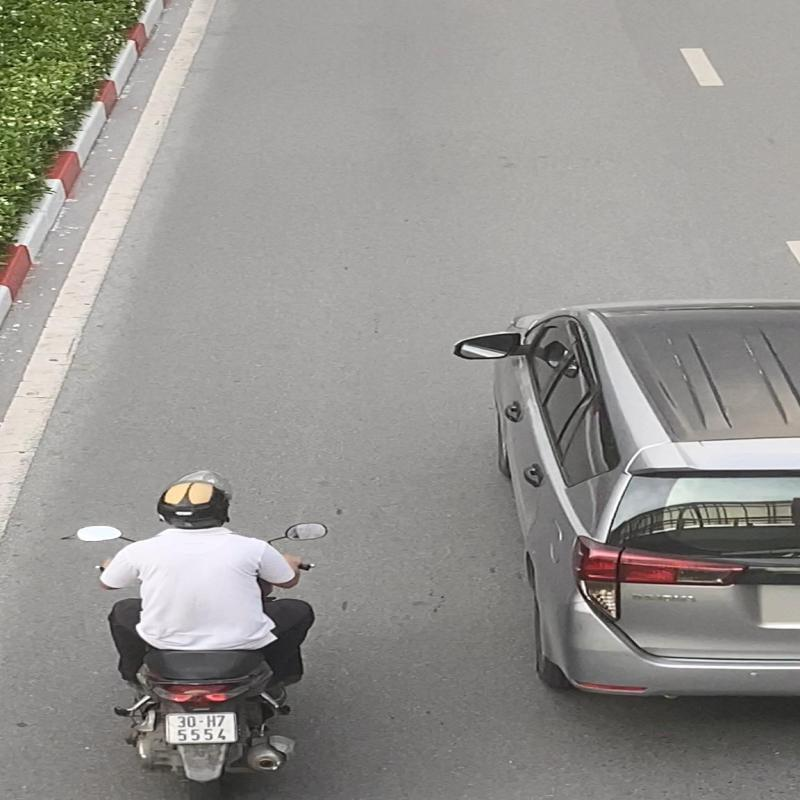helmet: (156, 474, 234, 529)
licenseplate: (164, 712, 239, 744)
motorcyclist: (97, 473, 318, 800)
